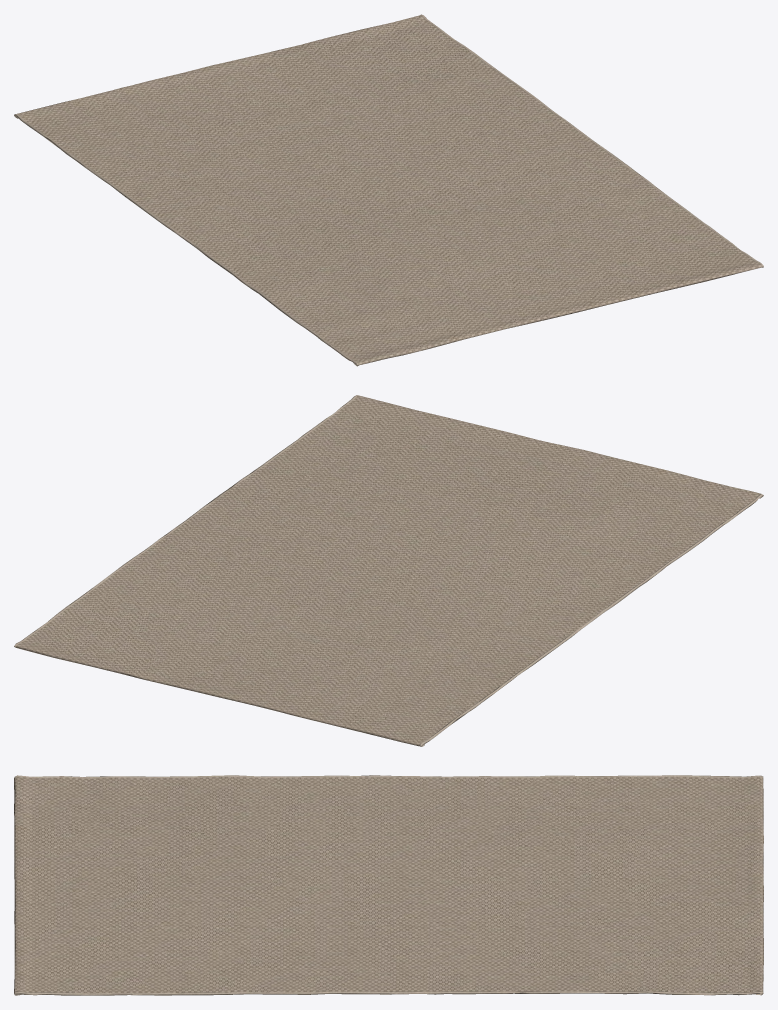
The model's file is morum-indoor-outdoor-rug-beige.glb.
The picture shows the model from 3 angles, top to bottom: view 1: azimuth 30°, elevation 25°; view 2: azimuth 150°, elevation 25°; view 3: azimuth 270°, elevation 25°; orthographic projection. The views are drawn at different scales.
Parts seen in each view (by area): view 1: model; view 2: model; view 3: model.
Boxes of the visible parts, bbox=[...] form: model: bbox=[14, 14, 763, 366]; model: bbox=[14, 395, 763, 746]; model: bbox=[14, 775, 763, 995].
Size of the model in its own units: 1.59 by 0.0159 by 2.32.
Materials: 1 (1 with a texture image).
